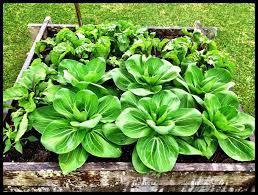Healthy-Pechay: (46, 32, 220, 158)
